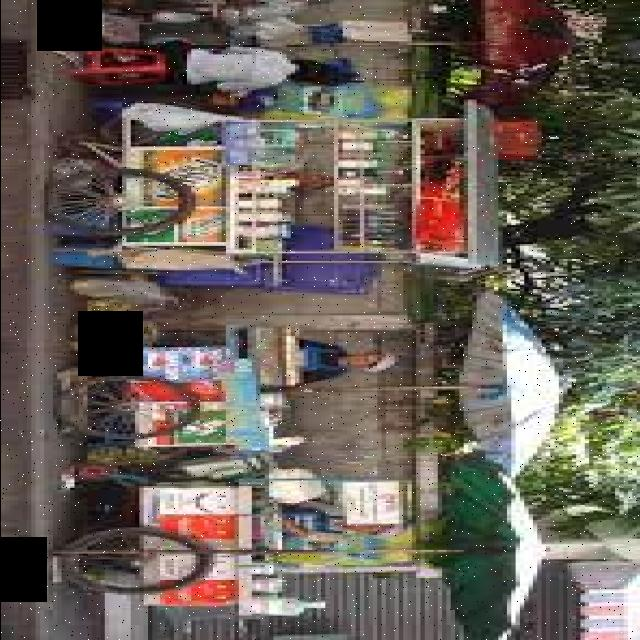food-booth: (52, 291, 558, 473), (48, 467, 541, 640), (43, 101, 497, 272), (337, 479, 398, 524)
